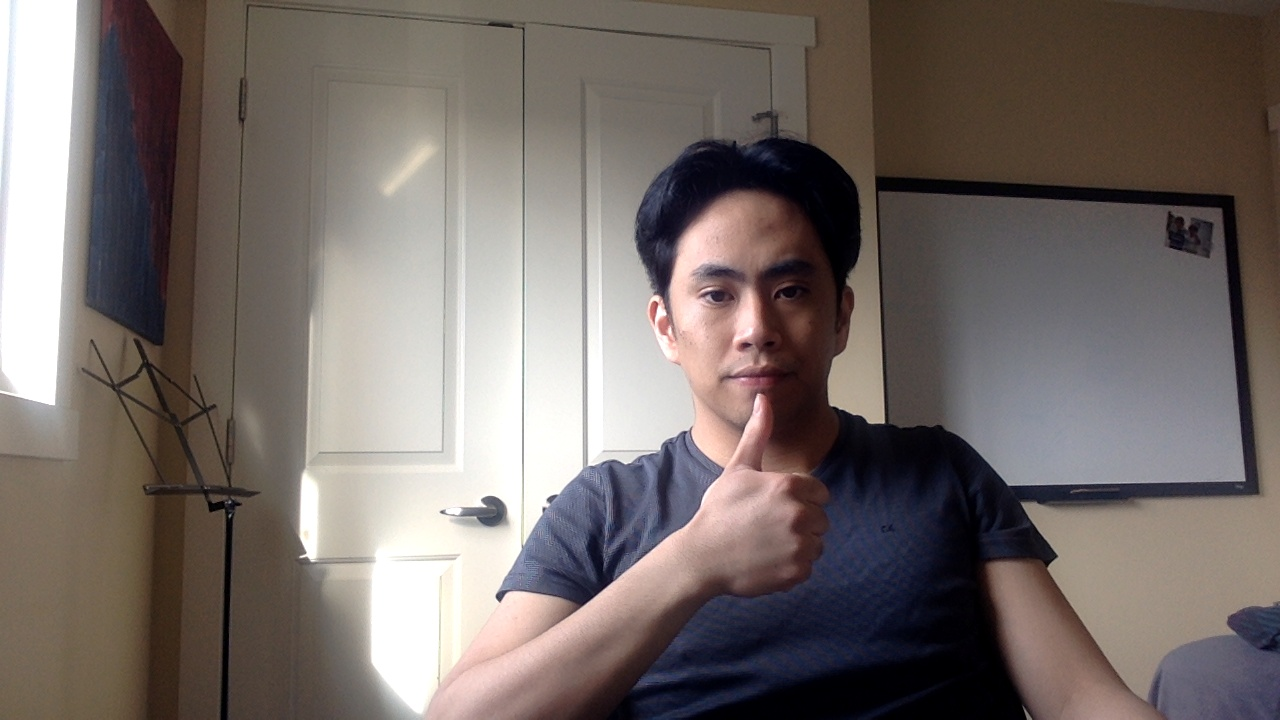ThumbsUp: (695, 394, 829, 600)
